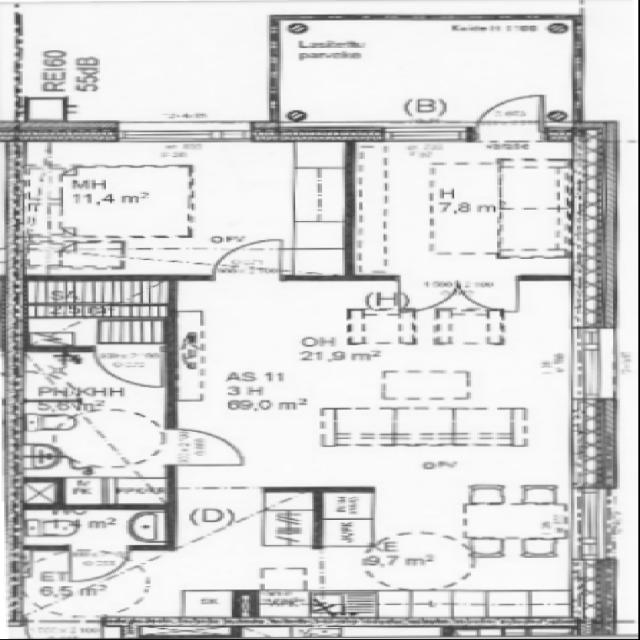door: (161, 426, 249, 468), (208, 237, 288, 280), (472, 91, 550, 135), (93, 346, 170, 388), (66, 547, 136, 584), (448, 280, 520, 313)
window: (101, 119, 262, 146), (570, 325, 624, 404), (569, 486, 621, 563), (372, 122, 478, 144)
zone: (165, 280, 584, 475), (220, 484, 584, 624), (12, 136, 347, 276), (346, 136, 599, 282), (262, 18, 586, 128), (15, 352, 172, 508), (169, 487, 324, 619), (22, 276, 172, 348), (18, 506, 176, 552)
